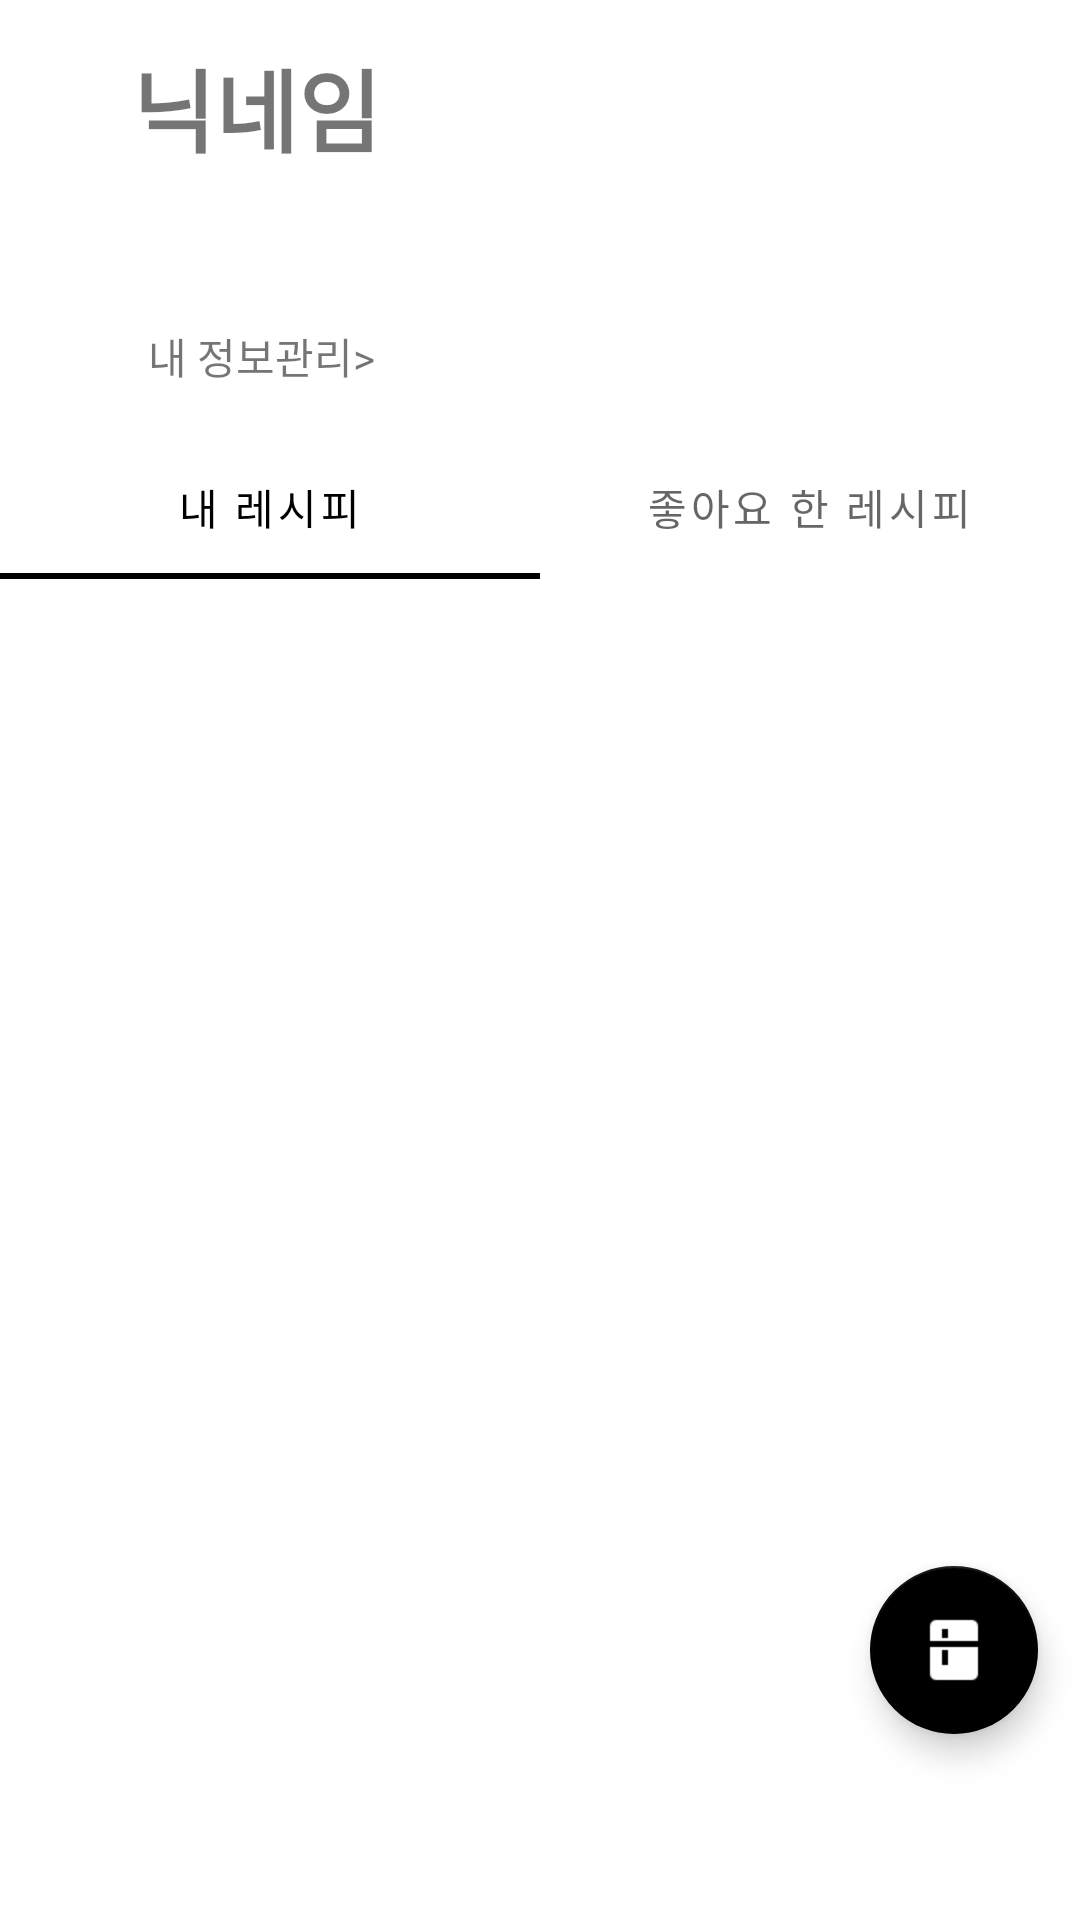

Where icons sit on this 1080*1920 app screen, as (x1, y1, x2, y2):
kitchen: (870, 1566, 1038, 1734)
